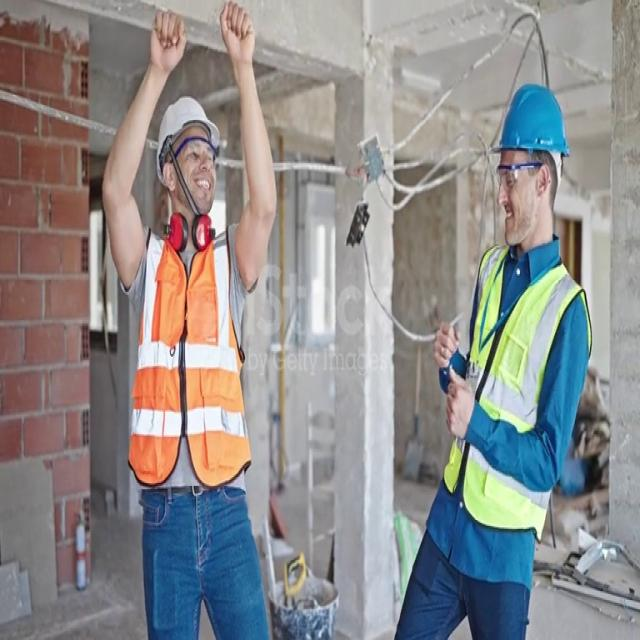capacete: (490, 80, 578, 202), (150, 93, 234, 174)
